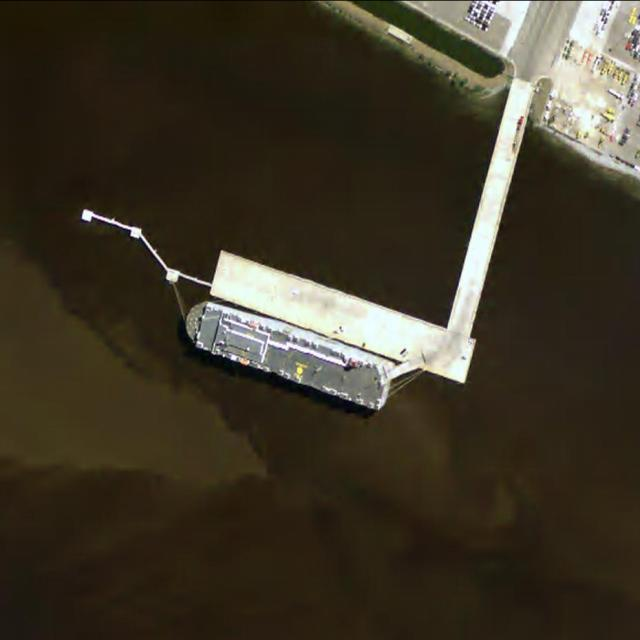Dock: (206, 248, 478, 385)
RoRo: (174, 295, 400, 412)
